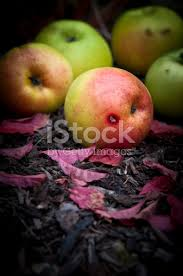damaged_apple: (65, 71, 154, 145), (6, 47, 72, 112), (115, 12, 178, 65)
